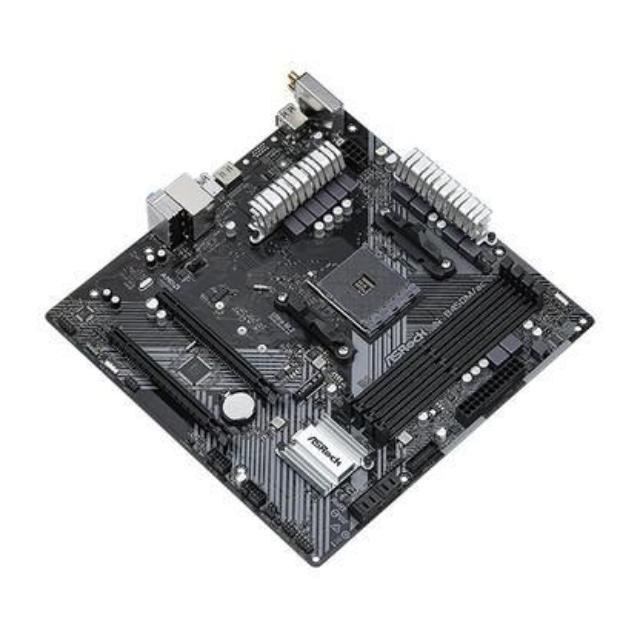Mainboard: (39, 60, 598, 569)
